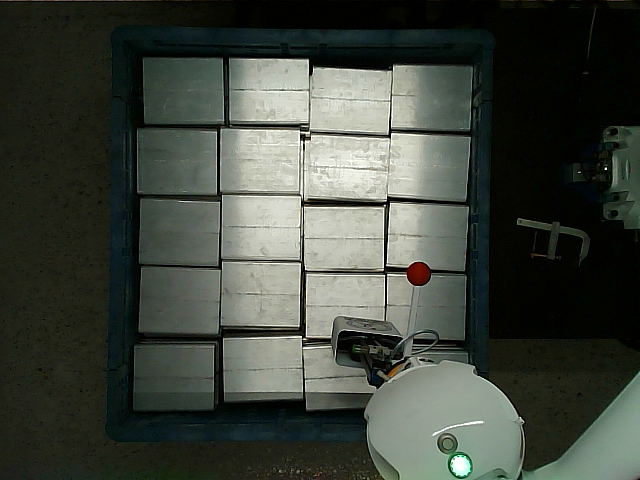green_light: (448, 453, 472, 478)
